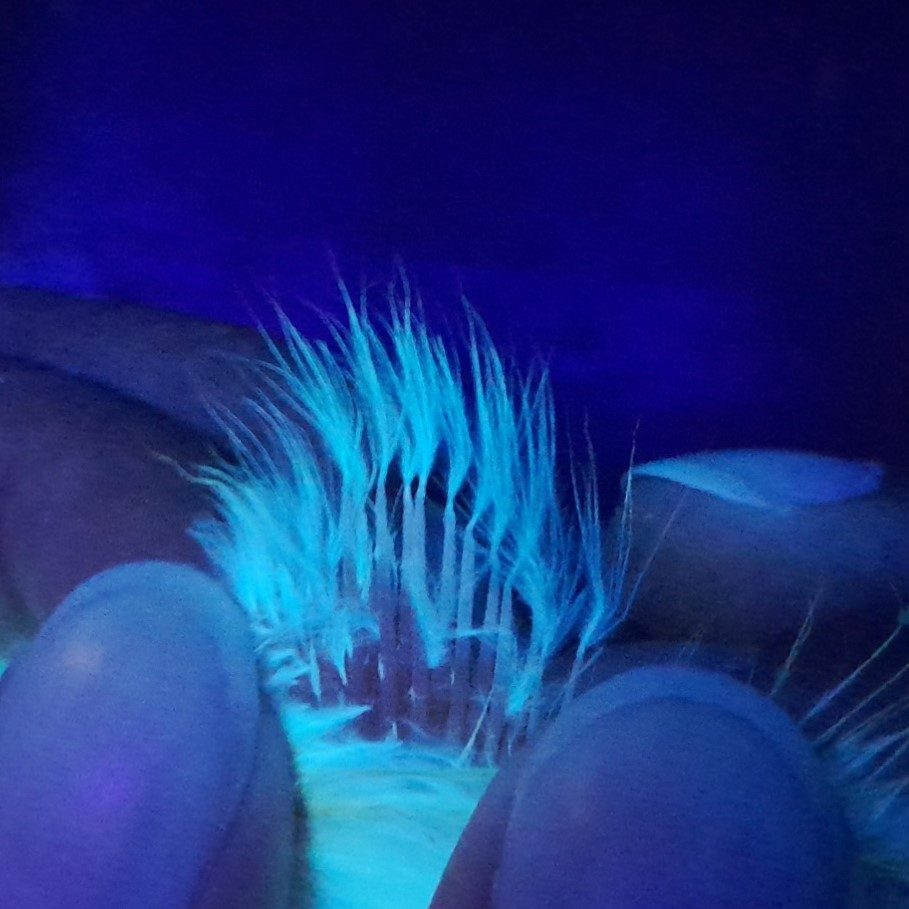male: (256, 455, 570, 787)
